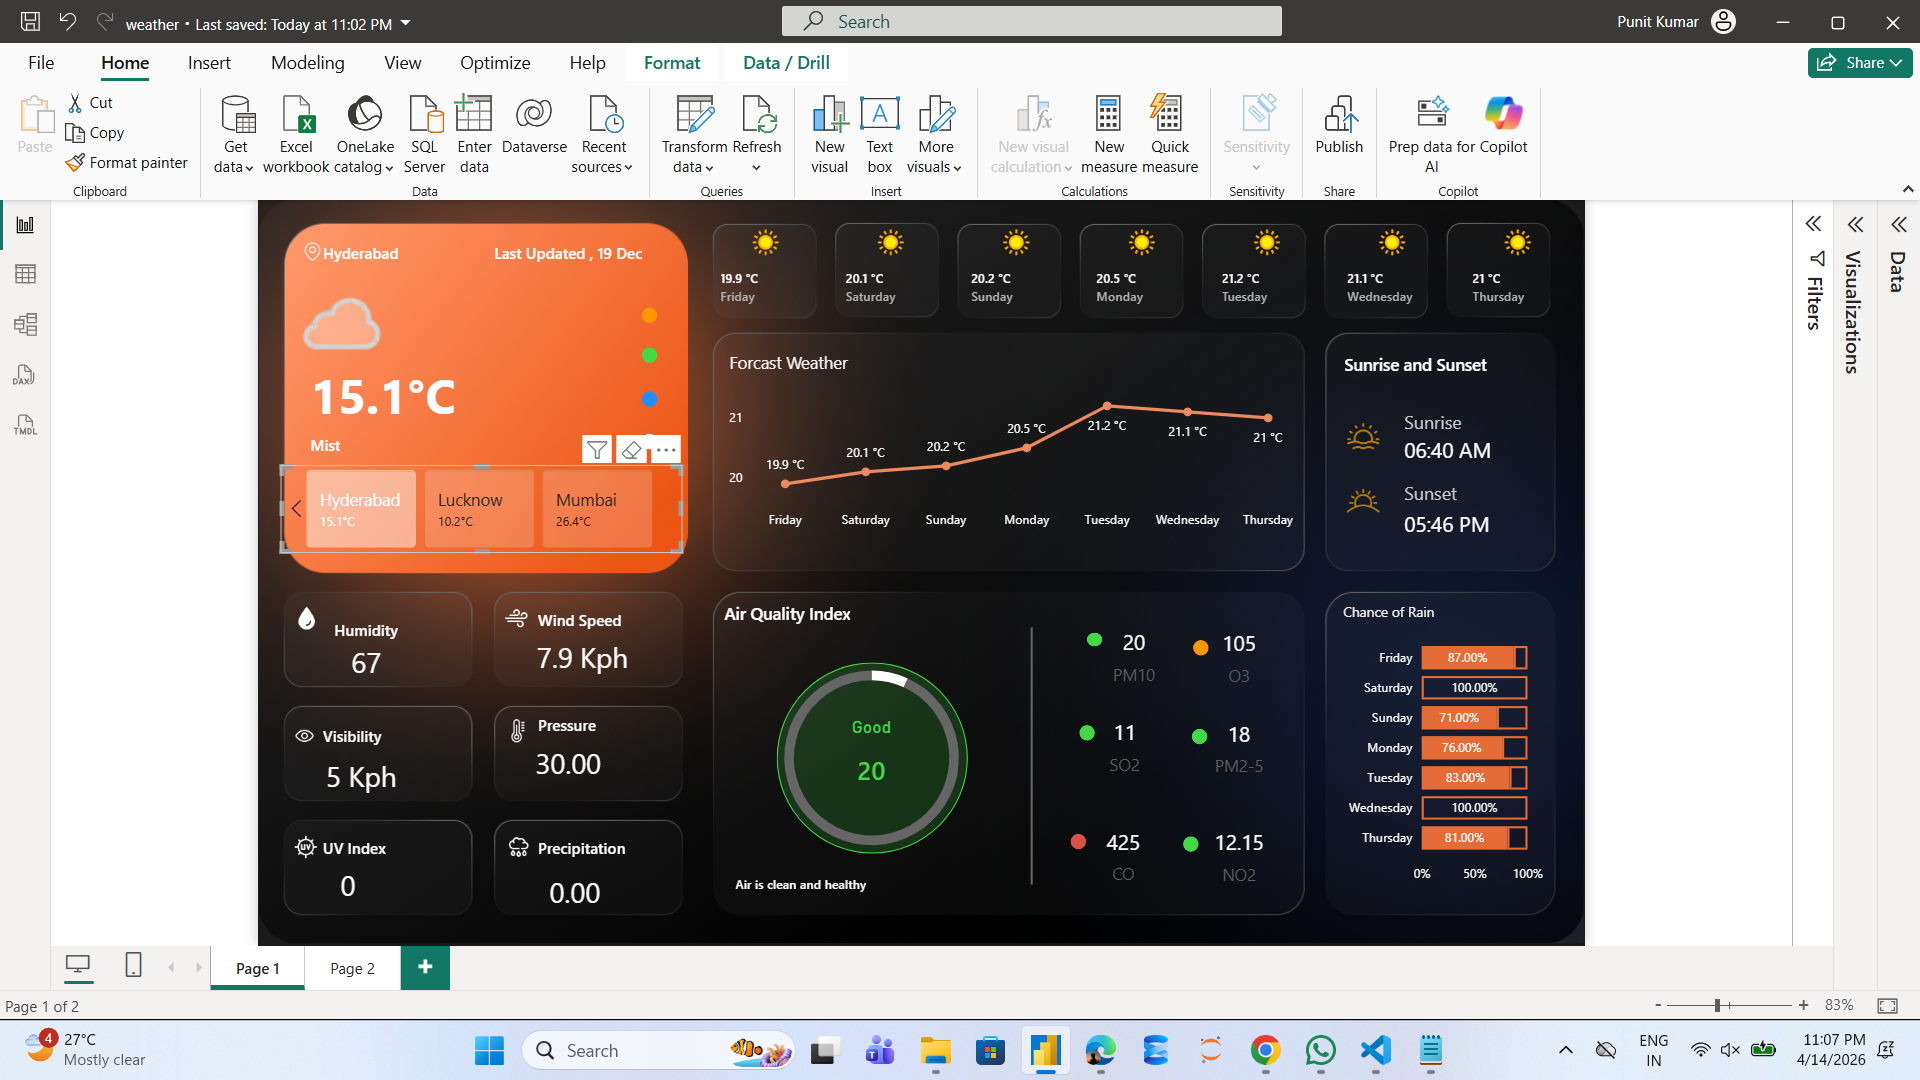

The page's visual inventory and layout, read from the dashboard file:
{"tool":"powerbi","page":{"name":"Page 1","canvas":[1280,720],"ordinal":0},"visuals":[{"type":"shape","box":[500.3,445.9,184.4,184.4],"z":0},{"type":"donutChart","fields":{"Y":["Sum(Current.current.air_quality.pm10)","_Measures.Left_value_PM10"]},"box":[455,427.8,275.1,220.7],"z":1000},{"type":"advancedSlicerVisual","fields":{"Values":["Locations.location.name"]},"box":[22,255.2,387,85.1],"z":2000},{"type":"shape","box":[50.8,137.2,177,98.8],"z":3000},{"type":"shape","box":[50.8,204.5,282.7,64.5],"z":4000},{"type":"shape","box":[42.5,17.8,113.9,64.5],"z":5000},{"type":"shape","box":[227.8,17.8,157.8,64.5],"z":6000},{"type":"image","box":[42.5,41.2,20.6,17.8],"z":7000},{"type":"advancedSlicerVisual","fields":{"Values":["Current.current.condition.icon"]},"box":[22,82.3,118,75.5],"z":8000},{"type":"image","box":[26.1,506.3,37,20.6],"z":9000},{"type":"shape","box":[63.1,491.3,138.6,52.1],"z":10000},{"type":"image","box":[240.1,496.7,22,30.2],"z":11000},{"type":"shape","box":[270.3,480.3,138.6,52.1],"z":12000},{"type":"shape","box":[270.3,378.7,138.6,52.1],"z":13000},{"type":"shape","box":[1049,131.3,139.1,53.2],"z":14000},{"type":"shape","box":[63.1,599.7,138.6,52.1],"z":15000},{"type":"shape","box":[270.3,599.7,138.6,52.1],"z":16000},{"type":"image","box":[28.8,613.4,34.3,23.3],"z":17000},{"type":"image","box":[227.8,392.5,42.5,23.3],"z":18000},{"type":"image","box":[233.3,613.4,37,23.3],"z":19000},{"type":"image","box":[31.6,392.5,31.6,23.3],"z":20000},{"type":"card","fields":{"Values":["Sum(Current.current.humidity)"]},"box":[16.6,396,175.3,102.8],"z":21000},{"type":"card","fields":{"Values":["_Measures.Wind_Speed"]},"box":[231.3,399.1,163.3,86.2],"z":22000},{"type":"card","fields":{"Values":["Sum(Current.current.pressure_in)"]},"box":[211.6,494.3,176.9,101.3],"z":23000},{"type":"card","fields":{"Values":["_Measures.Visibility_Speed"]},"box":[12.1,506.4,175.3,101.3],"z":24000},{"type":"card","fields":{"Values":["Sum(Current.current.precip_in)"]},"box":[218.9,619.1,175.1,101.6],"z":25000},{"type":"card","fields":{"Values":["Sum(Current.current.uv)"]},"box":[0,612.2,173.8,101.3],"z":26000},{"type":"lineChart","title":"Forcast Weather","fields":{"Y":["Sum(Forcast_Day.forecast.forecastday.day.avgtemp_c)"],"Category":["Forcast_Day.Day_Name"]},"box":[450.2,145.4,561.2,181.3],"z":27000},{"type":"advancedSlicerVisual","fields":{"Values":["Forcast_Day.Day_Name"]},"box":[428.3,12.5,852,107.9],"z":28000},{"type":"shape","box":[73.1,388.7,138.6,52.1],"z":29000},{"type":"shape","box":[1106.8,212.6,139.1,56.3],"z":30000},{"type":"shape","box":[1106.8,283,139.1,56.3],"z":31000},{"type":"shape","box":[1106.8,186,139.1,56.3],"z":32000},{"type":"shape","box":[1106.8,254.8,139.1,56.3],"z":33000},{"type":"image","box":[1025.5,268.9,82.9,42.2],"z":34000},{"type":"image","box":[1042.7,212.6,48.5,31.3],"z":35000},{"type":"hundredPercentStackedBarChart","title":"Chance of Rain","fields":{"Category":["Forcast_Day.Day_Name"],"Y":["Sum(Forcast_Day.forecast.forecastday.day.daily_chance_of_rain)","_Measures.Left_value_Rain"]},"box":[1042.9,388.3,203.1,279.9],"z":36000},{"type":"shape","box":[450.5,371.8,139.1,52.9],"z":37000},{"type":"card","fields":{"Values":["Sum(Current.current.air_quality.pm10)"]},"box":[781.8,403,127.9,73.6],"z":38000},{"type":"card","fields":{"Values":["Sum(Current.current.air_quality.o3)"]},"box":[883.5,402.4,128,74.6],"z":39000},{"type":"card","fields":{"Values":["Sum(Current.current.air_quality.so2)"]},"box":[772.1,489.8,129.1,73.6],"z":40000},{"type":"card","fields":{"Values":["Sum(Current.current.air_quality.pm2_5)"]},"box":[883.1,491,127.9,73.6],"z":41000},{"type":"card","fields":{"Values":["Sum(Current.current.air_quality.co)"]},"box":[770.9,594.8,129.1,74.8],"z":42000},{"type":"card","fields":{"Values":["Sum(Current.current.air_quality.no2)"]},"box":[883.1,596,127.9,73.6],"z":43000},{"type":"shape","box":[799.6,417.2,15.1,13.6],"z":44000},{"type":"shape","box":[784.5,612.2,15.1,15.1],"z":45000},{"type":"shape","box":[902.4,424.8,15.1,15.1],"z":46000},{"type":"shape","box":[900.9,510.9,15.1,15.1],"z":47000},{"type":"shape","box":[893.3,613.7,15.1,15.1],"z":48000},{"type":"shape","box":[792.1,506.4,15.1,15.1],"z":49000},{"type":"shape","box":[657.5,412.7,178.4,247.9],"z":50000},{"type":"card","fields":{"Values":["Sum(Current.current.air_quality.pm10)"]},"box":[527.5,498.8,130,87.7],"z":51000},{"type":"shape","box":[461,633.4,250.9,52.9],"z":52000},{"type":"shape","box":[370.3,104.3,15.1,15.1],"z":53000},{"type":"shape","box":[370.3,142.1,15.1,15.1],"z":54000},{"type":"shape","box":[370.3,184.4,15.1,15.1],"z":55000},{"type":"shape","box":[370.3,225.2,15.1,15.1],"z":56000}]}

Visuals, with their boxes on the page's 1280x720 design canvas (x1, y1, x2, y2). These are canvas units, not pixel positions in the 1920x1080 screenshot, which may show the page scaled, cropped or inside an application window:
shape: (x1=500, y1=446, x2=685, y2=630)
donutChart - Sum(Current.current.air_quality.pm10) x _Measures.Left_value_PM10: (x1=455, y1=428, x2=730, y2=648)
advancedSlicerVisual - Locations.location.name: (x1=22, y1=255, x2=409, y2=340)
shape: (x1=51, y1=137, x2=228, y2=236)
shape: (x1=51, y1=204, x2=334, y2=269)
shape: (x1=42, y1=18, x2=156, y2=82)
shape: (x1=228, y1=18, x2=386, y2=82)
image: (x1=42, y1=41, x2=63, y2=59)
advancedSlicerVisual - Current.current.condition.icon: (x1=22, y1=82, x2=140, y2=158)
image: (x1=26, y1=506, x2=63, y2=527)
shape: (x1=63, y1=491, x2=202, y2=543)
image: (x1=240, y1=497, x2=262, y2=527)
shape: (x1=270, y1=480, x2=409, y2=532)
shape: (x1=270, y1=379, x2=409, y2=431)
shape: (x1=1049, y1=131, x2=1188, y2=184)
shape: (x1=63, y1=600, x2=202, y2=652)
shape: (x1=270, y1=600, x2=409, y2=652)
image: (x1=29, y1=613, x2=63, y2=637)
image: (x1=228, y1=392, x2=270, y2=416)
image: (x1=233, y1=613, x2=270, y2=637)
image: (x1=32, y1=392, x2=63, y2=416)
card - Sum(Current.current.humidity): (x1=17, y1=396, x2=192, y2=499)
card - _Measures.Wind_Speed: (x1=231, y1=399, x2=395, y2=485)
card - Sum(Current.current.pressure_in): (x1=212, y1=494, x2=388, y2=596)
card - _Measures.Visibility_Speed: (x1=12, y1=506, x2=187, y2=608)
card - Sum(Current.current.precip_in): (x1=219, y1=619, x2=394, y2=721)
card - Sum(Current.current.uv): (x1=0, y1=612, x2=174, y2=714)
"Forcast Weather" lineChart: (x1=450, y1=145, x2=1011, y2=327)
advancedSlicerVisual - Forcast_Day.Day_Name: (x1=428, y1=12, x2=1280, y2=120)
shape: (x1=73, y1=389, x2=212, y2=441)
shape: (x1=1107, y1=213, x2=1246, y2=269)
shape: (x1=1107, y1=283, x2=1246, y2=339)
shape: (x1=1107, y1=186, x2=1246, y2=242)
shape: (x1=1107, y1=255, x2=1246, y2=311)
image: (x1=1026, y1=269, x2=1108, y2=311)
image: (x1=1043, y1=213, x2=1091, y2=244)
"Chance of Rain" hundredPercentStackedBarChart: (x1=1043, y1=388, x2=1246, y2=668)
shape: (x1=450, y1=372, x2=590, y2=425)
card - Sum(Current.current.air_quality.pm10): (x1=782, y1=403, x2=910, y2=477)
card - Sum(Current.current.air_quality.o3): (x1=884, y1=402, x2=1012, y2=477)
card - Sum(Current.current.air_quality.so2): (x1=772, y1=490, x2=901, y2=563)
card - Sum(Current.current.air_quality.pm2_5): (x1=883, y1=491, x2=1011, y2=565)
card - Sum(Current.current.air_quality.co): (x1=771, y1=595, x2=900, y2=670)
card - Sum(Current.current.air_quality.no2): (x1=883, y1=596, x2=1011, y2=670)
shape: (x1=800, y1=417, x2=815, y2=431)
shape: (x1=784, y1=612, x2=800, y2=627)
shape: (x1=902, y1=425, x2=918, y2=440)
shape: (x1=901, y1=511, x2=916, y2=526)
shape: (x1=893, y1=614, x2=908, y2=629)
shape: (x1=792, y1=506, x2=807, y2=522)
shape: (x1=658, y1=413, x2=836, y2=661)
card - Sum(Current.current.air_quality.pm10): (x1=528, y1=499, x2=658, y2=586)
shape: (x1=461, y1=633, x2=712, y2=686)
shape: (x1=370, y1=104, x2=385, y2=119)
shape: (x1=370, y1=142, x2=385, y2=157)
shape: (x1=370, y1=184, x2=385, y2=200)
shape: (x1=370, y1=225, x2=385, y2=240)
